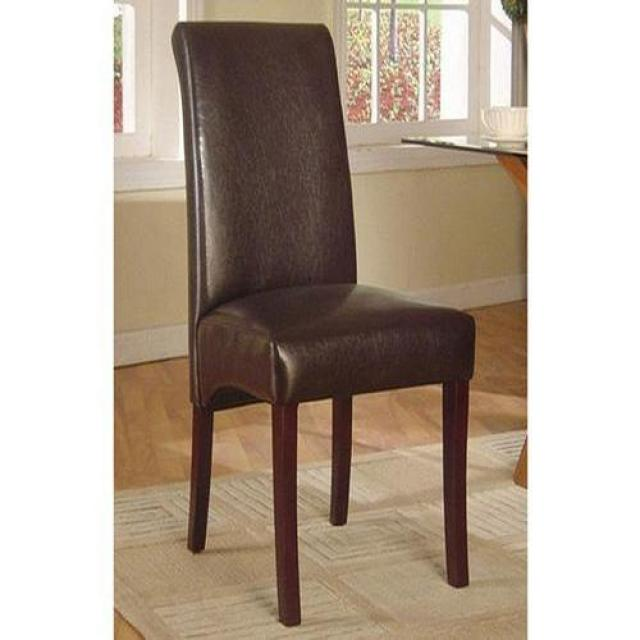chair: (172, 22, 477, 628)
